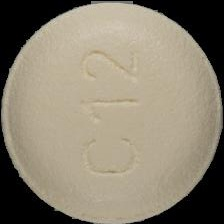51138-211: (0, 0, 224, 224)
